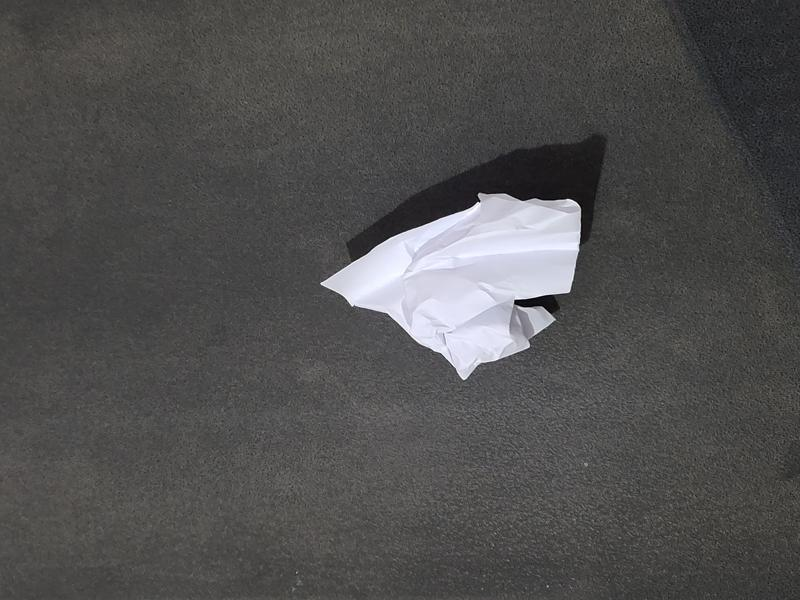papel: (322, 190, 588, 382)
